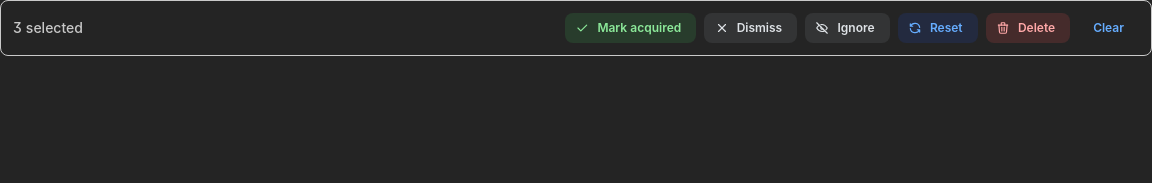
Test case: ReleasesBulkActionBar › warns that Delete is undone by the next poll
Hover over the button "Delete" at [1028, 28], box [986, 13, 1070, 43]
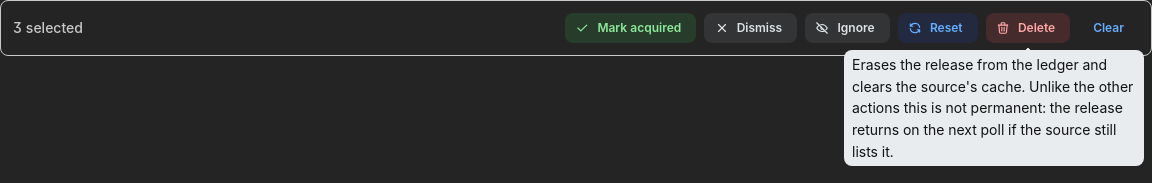
Expected: the tooltip "Erases the release from the ledger and clears the source's cache. Unlike the other actions this is not permanent: the re" is shown, [852, 56, 1133, 160]
